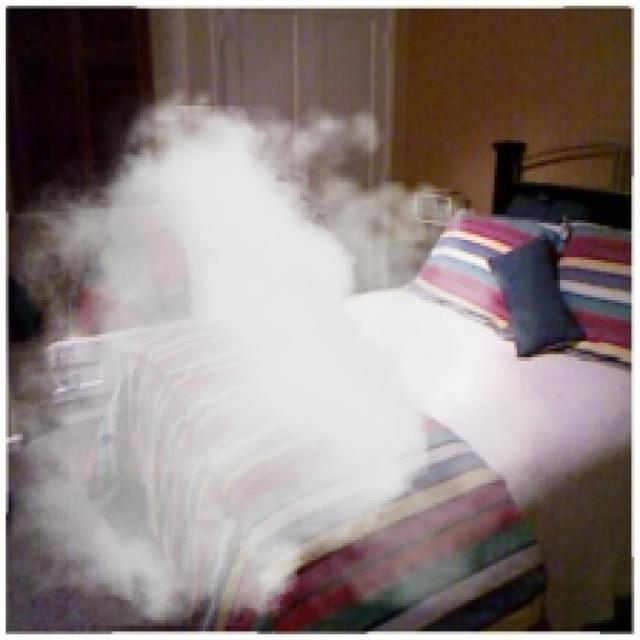smoke: (12, 71, 577, 626)
